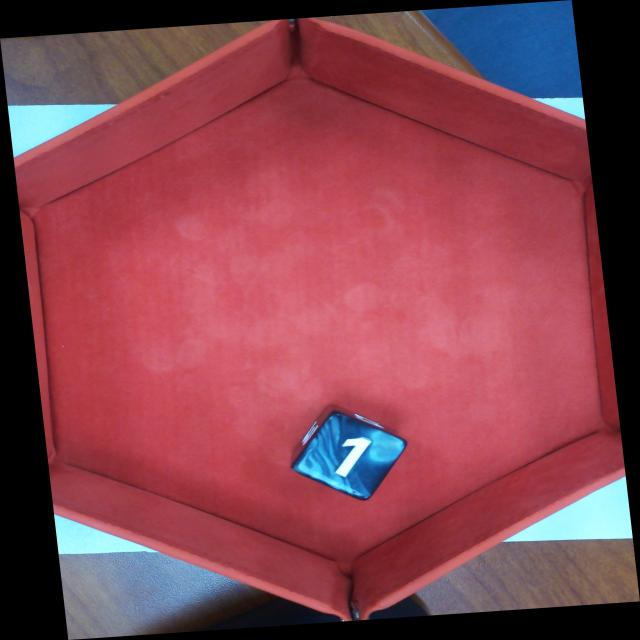dice: (288, 408, 411, 504)
